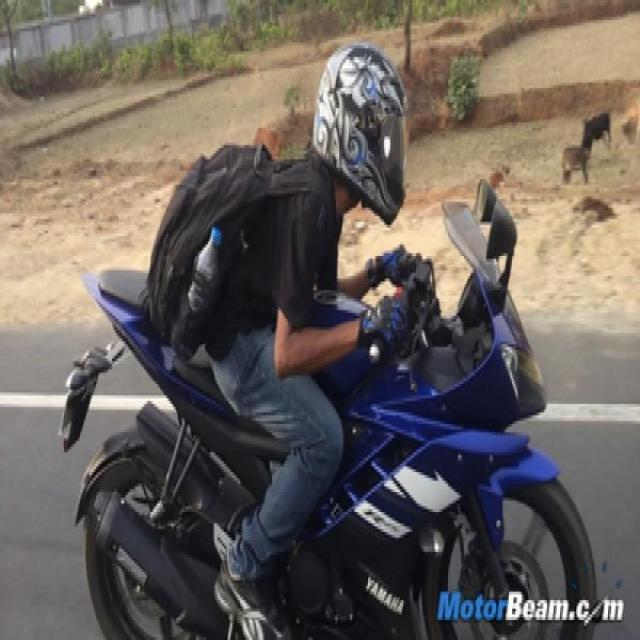Helmet: (317, 33, 415, 236)
